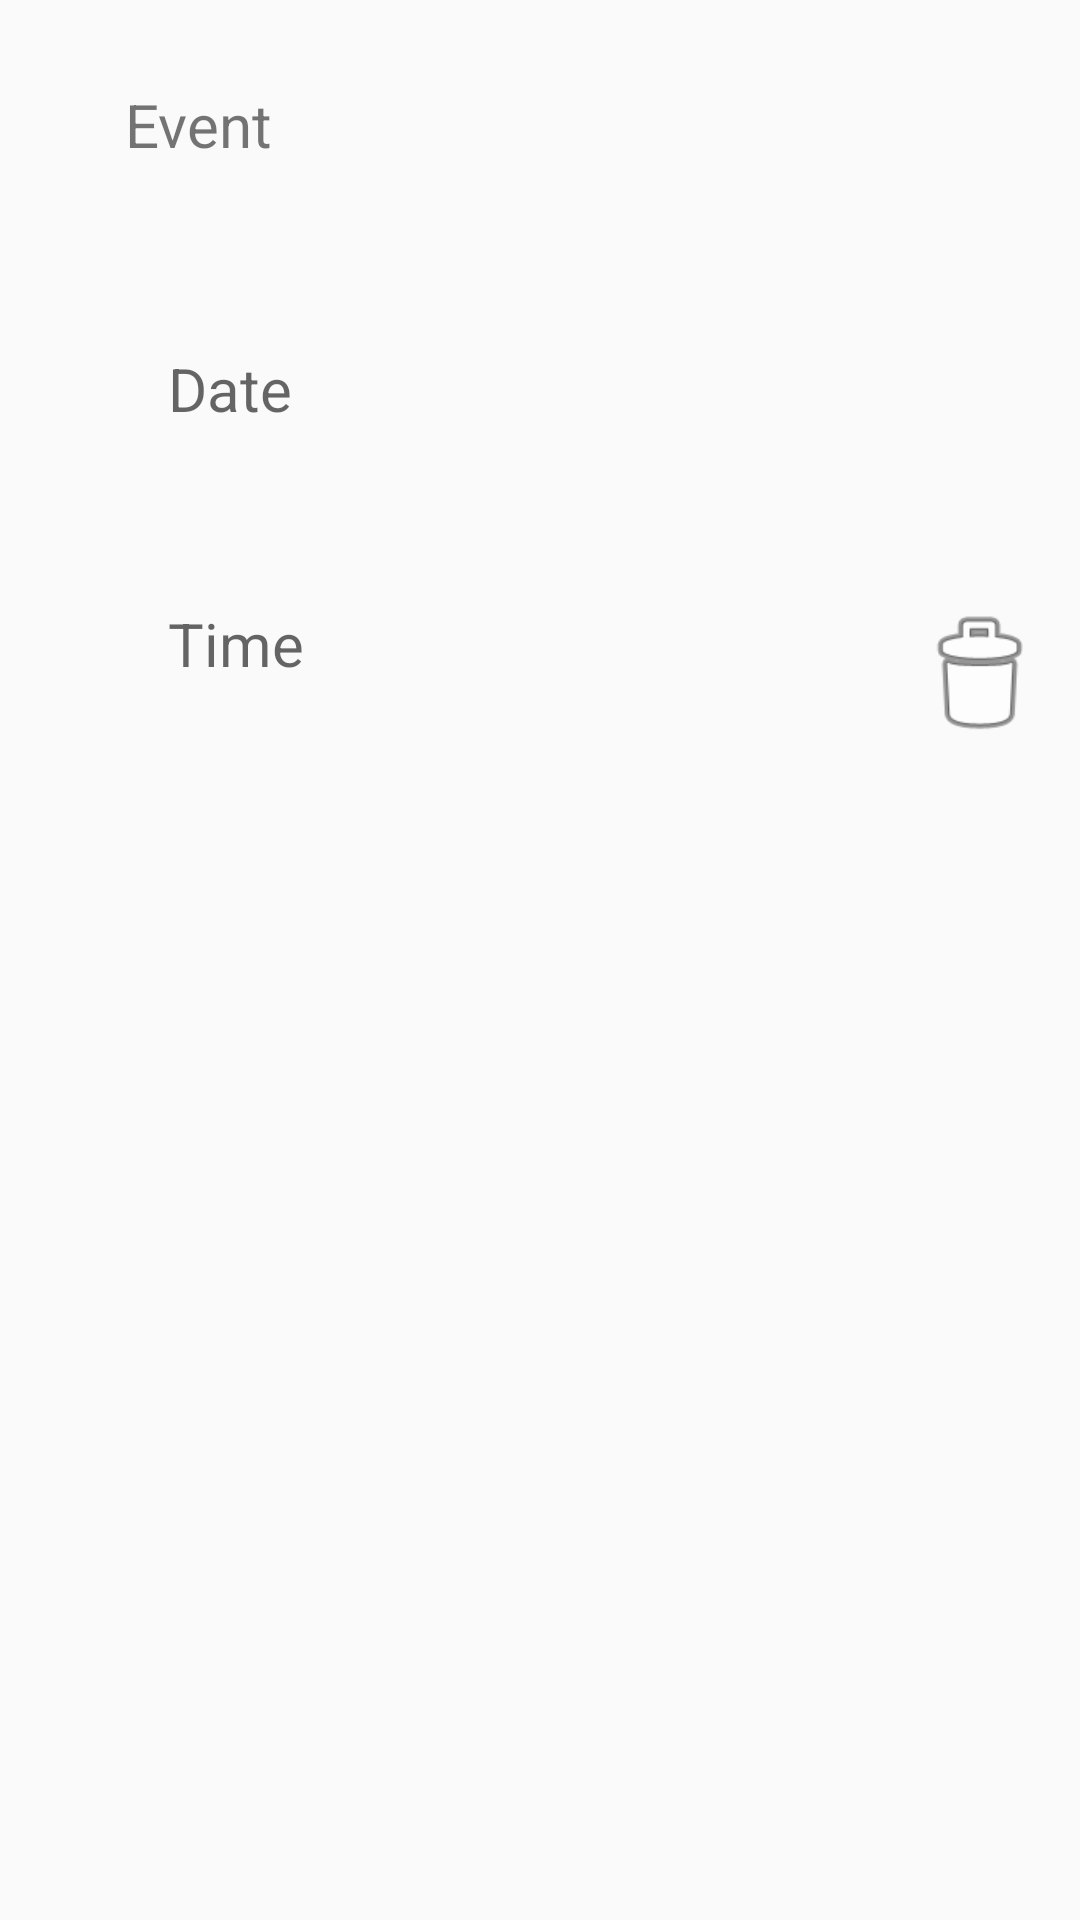

Icon click points for this 1080×1920 phone screenshot, format (x=x, y=y):
delete: (x=979, y=672)
